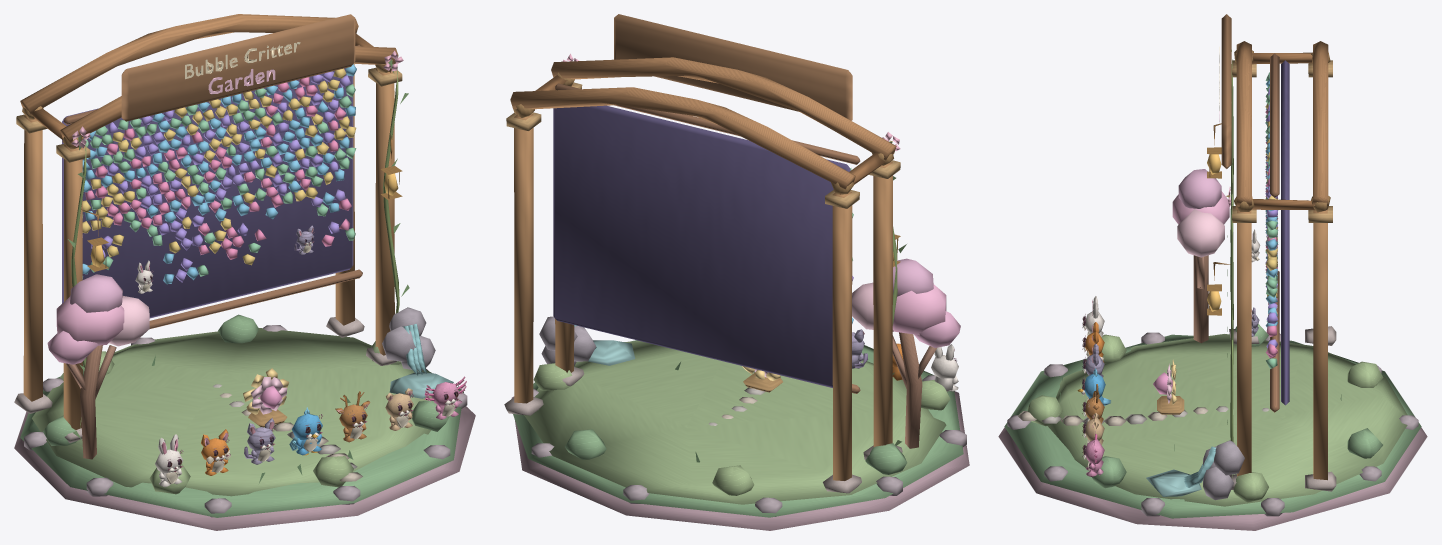
The picture shows the model from 3 angles, left to right: view 1: azimuth 30°, elevation 25°; view 2: azimuth 150°, elevation 25°; view 3: azimuth 270°, elevation 25°; orthographic projection. The views are drawn at different scales.
Visible parts, largest first — view 1: Everything; view 2: Everything; view 3: Everything.
Boxes of the visible parts, bbox=[...] form: Everything: bbox=[14, 14, 475, 530]; Everything: bbox=[504, 14, 969, 530]; Everything: bbox=[998, 14, 1427, 530].
Bounding box in the file's own units: 11.5 × 10.78 × 10.96.
2 materials, 1 textured.
